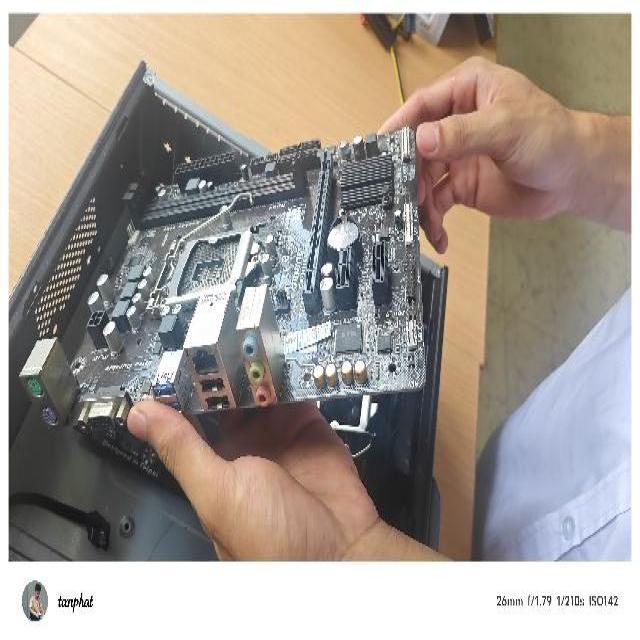Mainboard: (15, 121, 427, 436)
